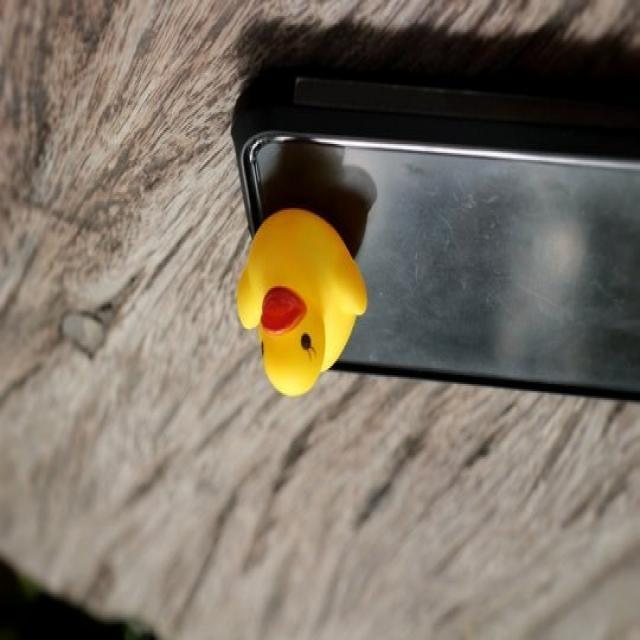rubber-duck: (236, 207, 365, 394)
